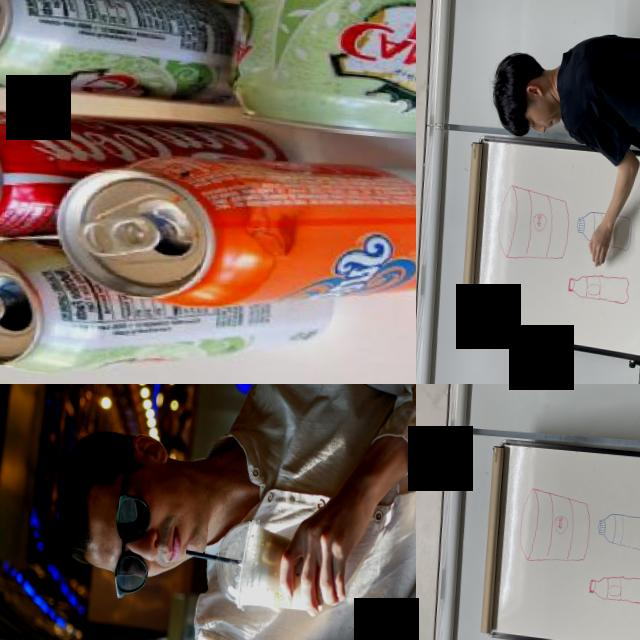can: (55, 135, 416, 327), (0, 94, 331, 266), (0, 232, 342, 384), (0, 0, 251, 114), (223, 0, 416, 146)
cup: (211, 514, 334, 616)
